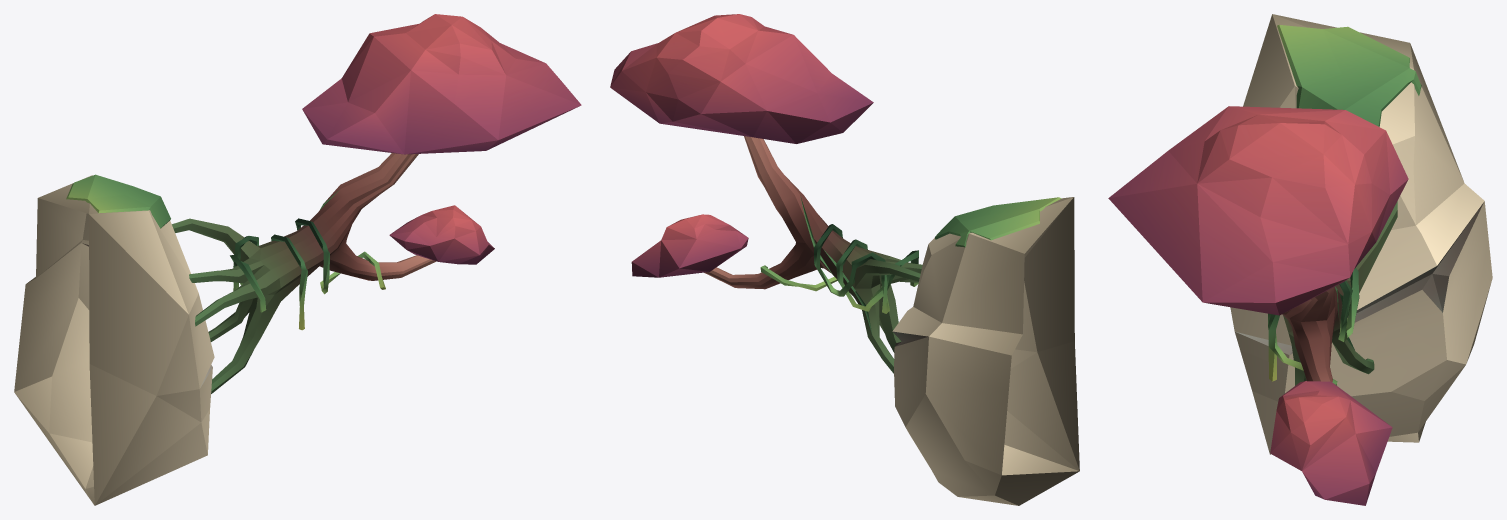
The model's file is treeRootSideways.fbx.
The picture shows the model from 3 angles, left to right: view 1: azimuth 30°, elevation 25°; view 2: azimuth 150°, elevation 25°; view 3: azimuth 270°, elevation 25°; orthographic projection. The views are drawn at different scales.
Visible parts, largest first — view 1: treeRootSideways; view 2: treeRootSideways; view 3: treeRootSideways.
Part boxes in pixels (x1,y1,x2,y2): treeRootSideways: (14,14,581,505); treeRootSideways: (610,14,1079,505); treeRootSideways: (1108,14,1492,505).
Bounding box in the file's own units: 2620 × 2121 × 1367.
